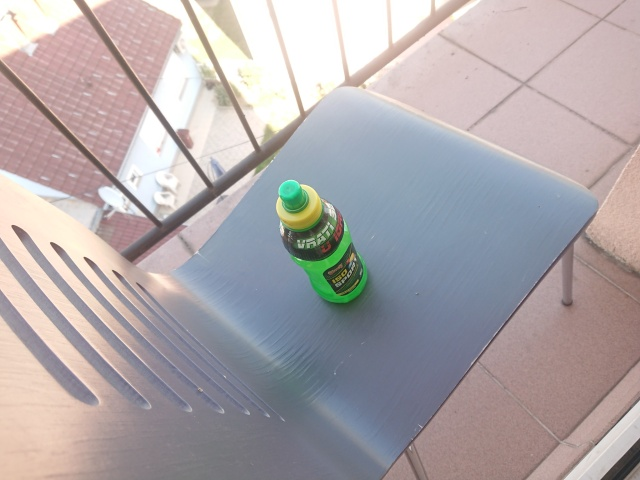Vindi Iso Sport Lemon-Grapefruit 500mL: (272, 177, 371, 307)
